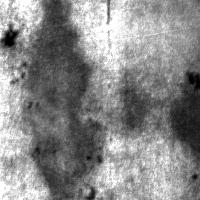patches: (21, 1, 99, 198), (127, 0, 200, 71), (0, 75, 65, 151), (158, 68, 200, 158), (109, 64, 154, 140), (1, 21, 21, 50)
